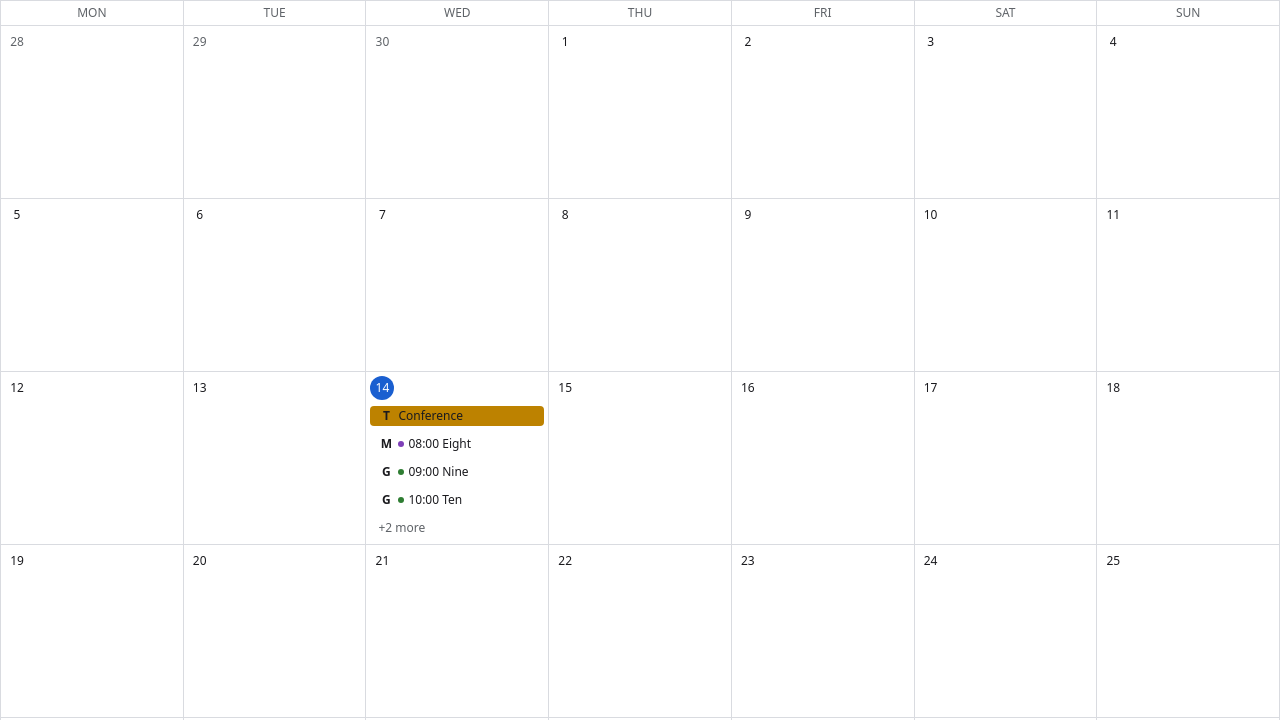
Test: overflow by breakpoint (AC-5, Block 6) › the more-button opens that day: /day/2026-10-14
Step 1. Click the button with aria-label "2 more events on Wednesday 14 October" → (402, 528), box top-left (370, 516), bottom-right (433, 540)
(page scrolled)
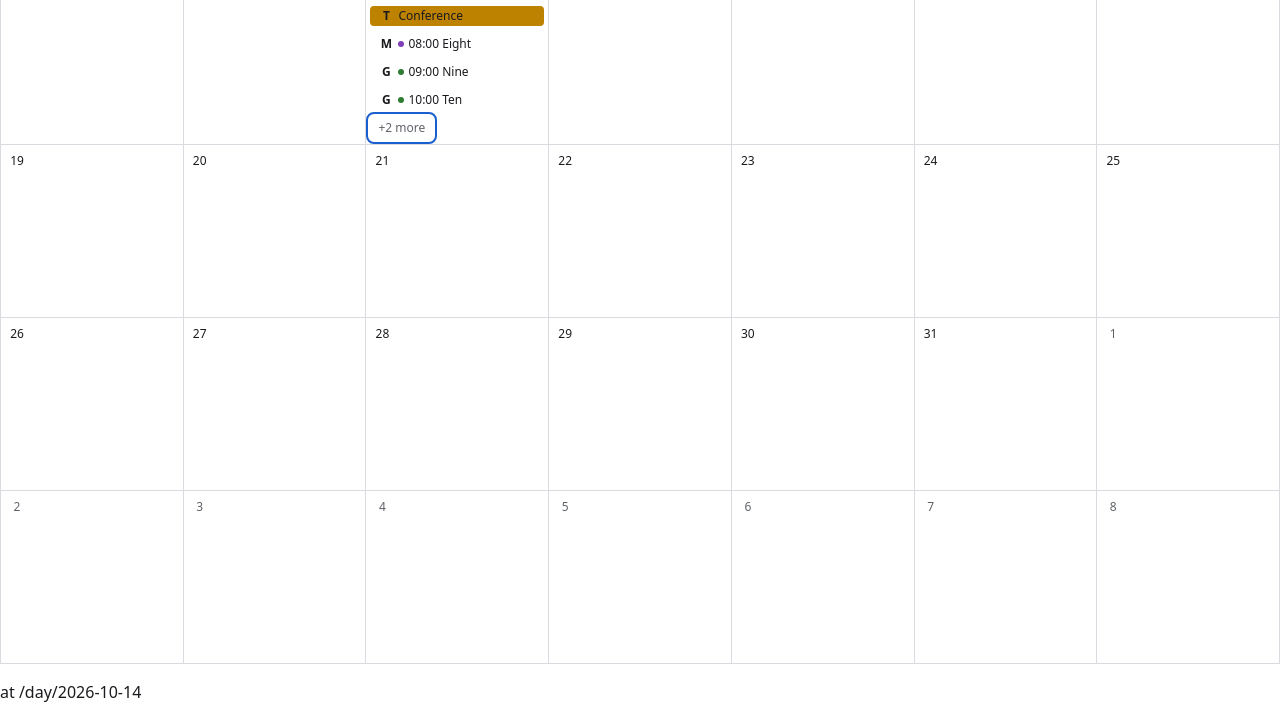
Expected: the text "at /day/2026-10-14" is shown, top-left (0, 681), bottom-right (141, 703)
